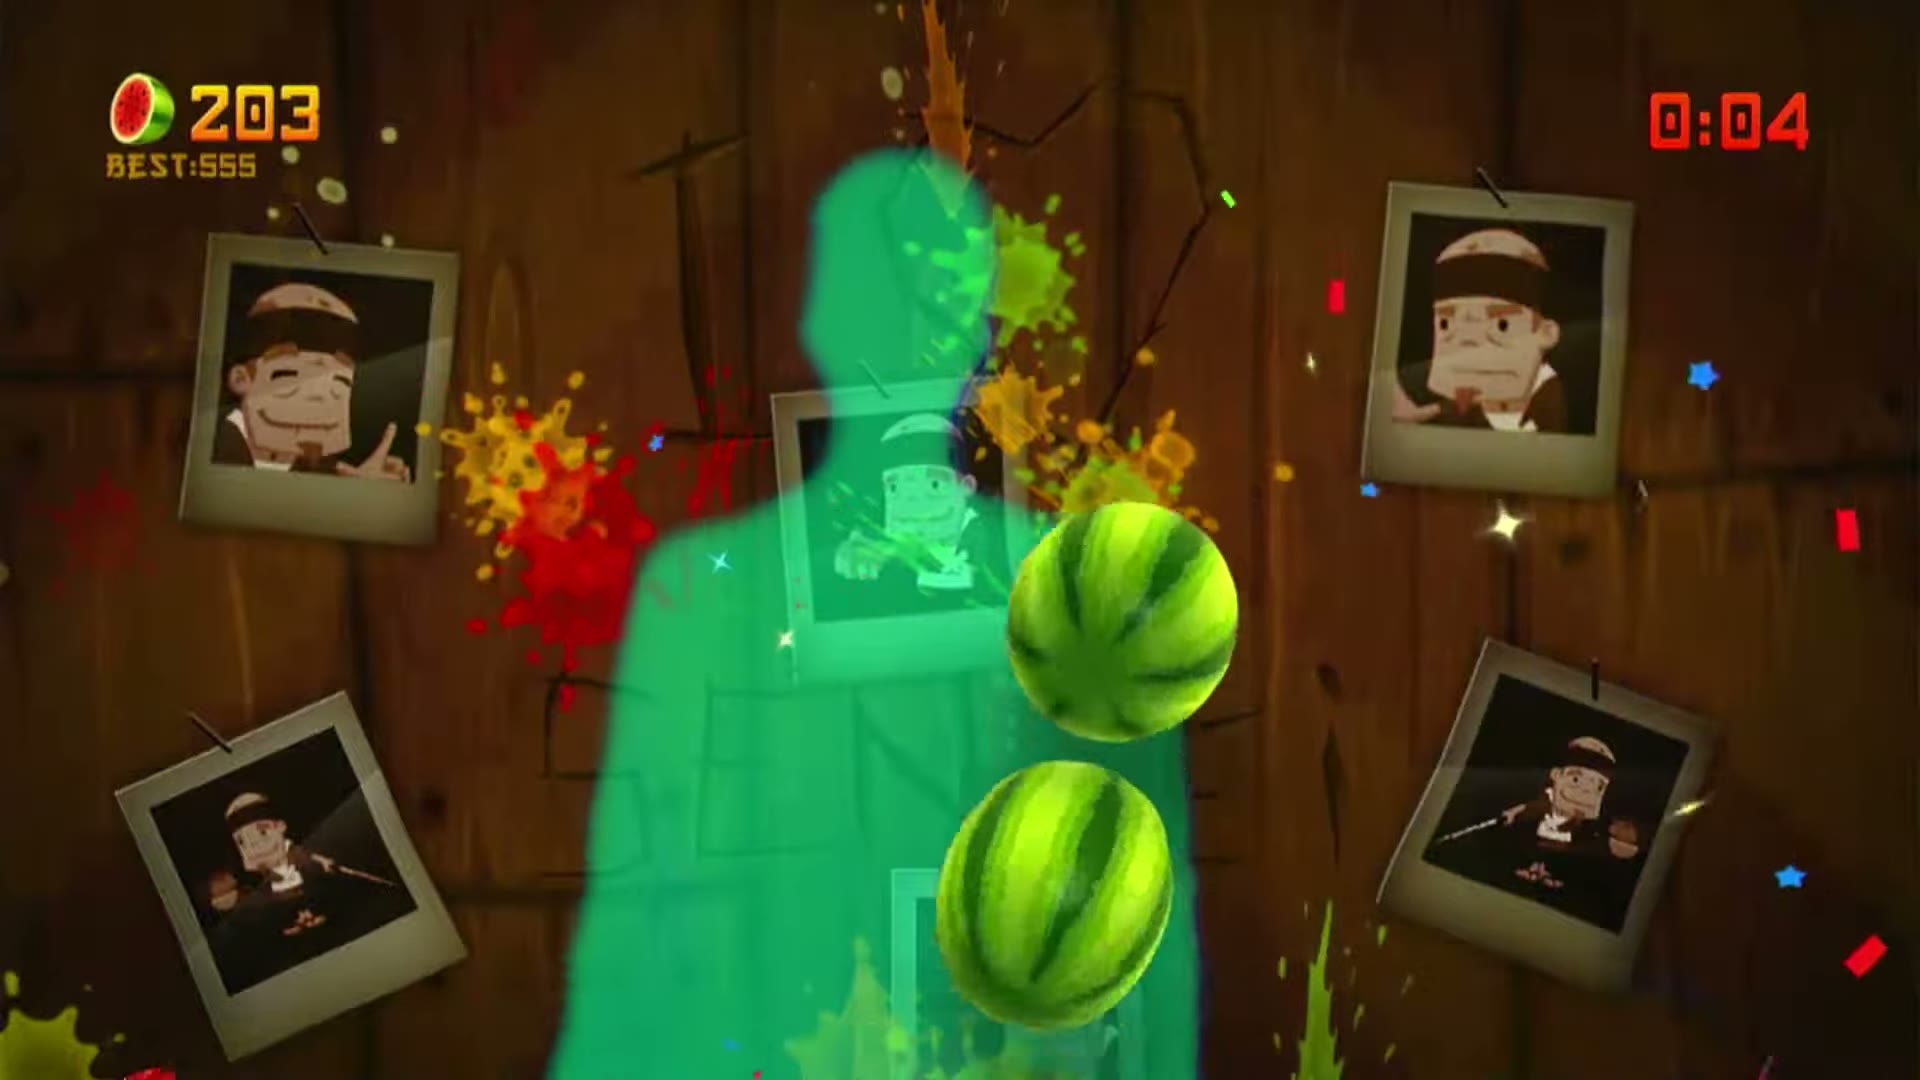fruit: (899, 720, 1130, 1030), (960, 460, 1180, 720)
